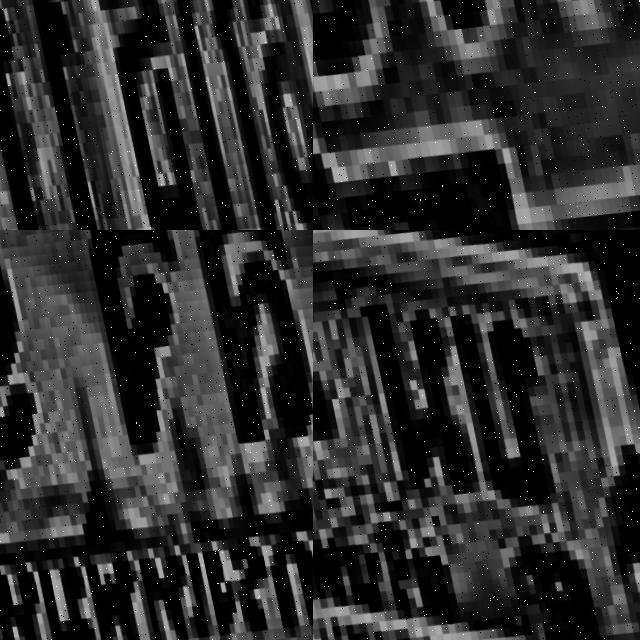license-plate: (313, 230, 640, 640), (0, 230, 313, 640), (313, 0, 640, 230), (0, 0, 313, 230)
